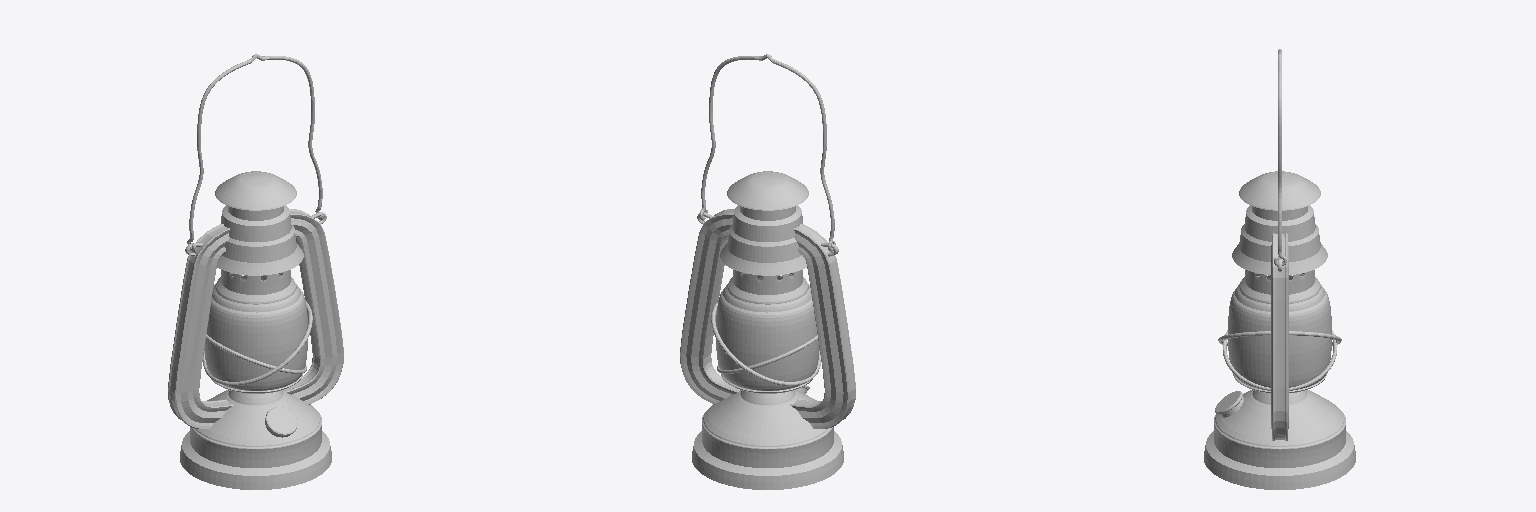
The model's file is lantern-textured-low-l-eevee-retexture.obj.
3 renders of one model, left to right at view 1: azimuth 30°, elevation 25°; view 2: azimuth 150°, elevation 25°; view 3: azimuth 270°, elevation 25°, orthographic.
Parts seen in each view (by area): view 1: Torus.002_Torus.007; view 2: Torus.002_Torus.007; view 3: Torus.002_Torus.007.
Part boxes in pixels (x1,y1,x2,y2): Torus.002_Torus.007: (168,54,343,489); Torus.002_Torus.007: (680,54,855,489); Torus.002_Torus.007: (1204,49,1355,489).
Bounding box in the file's own units: 0.8739 × 2 × 0.6845.